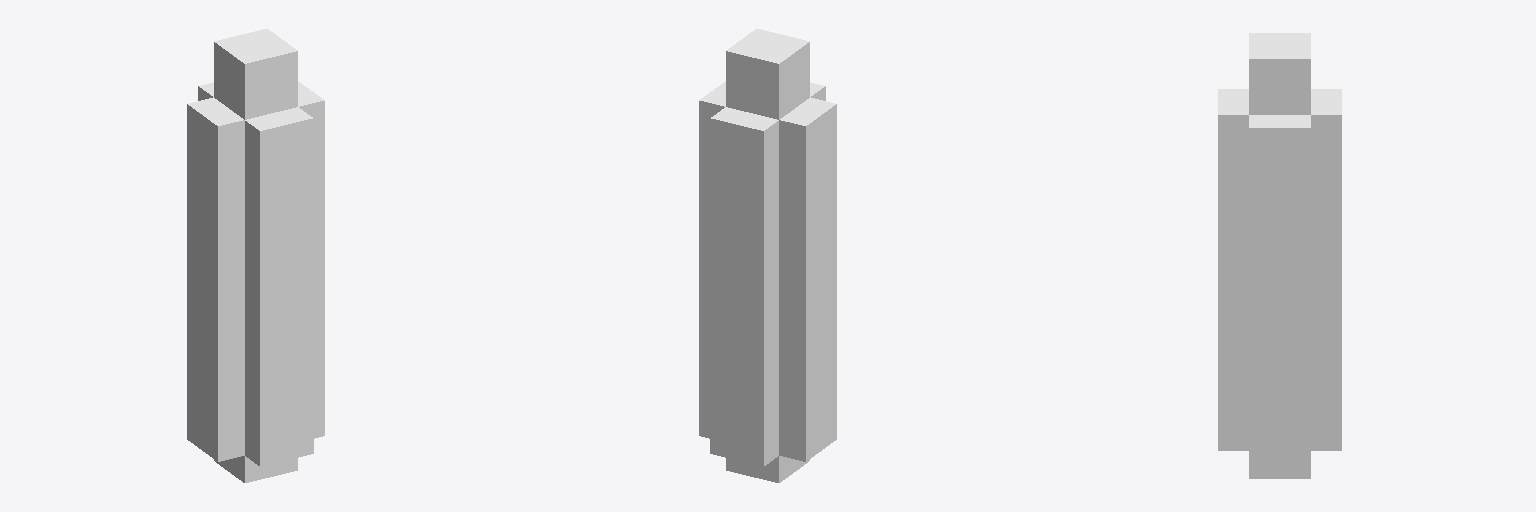
File: Lowerarm.obj
3 views of the same model, side by side, from view 1: azimuth 30°, elevation 25°; view 2: azimuth 150°, elevation 25°; view 3: azimuth 270°, elevation 25° (orthographic).
Visible parts, largest first — view 1: object 1; view 2: object 1; view 3: object 1.
Boxes of the visible parts, box(x1,y1,x2,y2) form: object 1: box(187, 29, 324, 482); object 1: box(699, 29, 836, 482); object 1: box(1218, 33, 1341, 478).
Size of the model in its own units: 0.4 by 1.5 by 0.4.